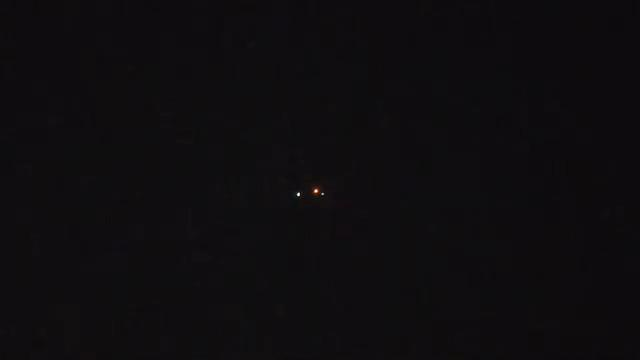Plane: (280, 180, 344, 204)
